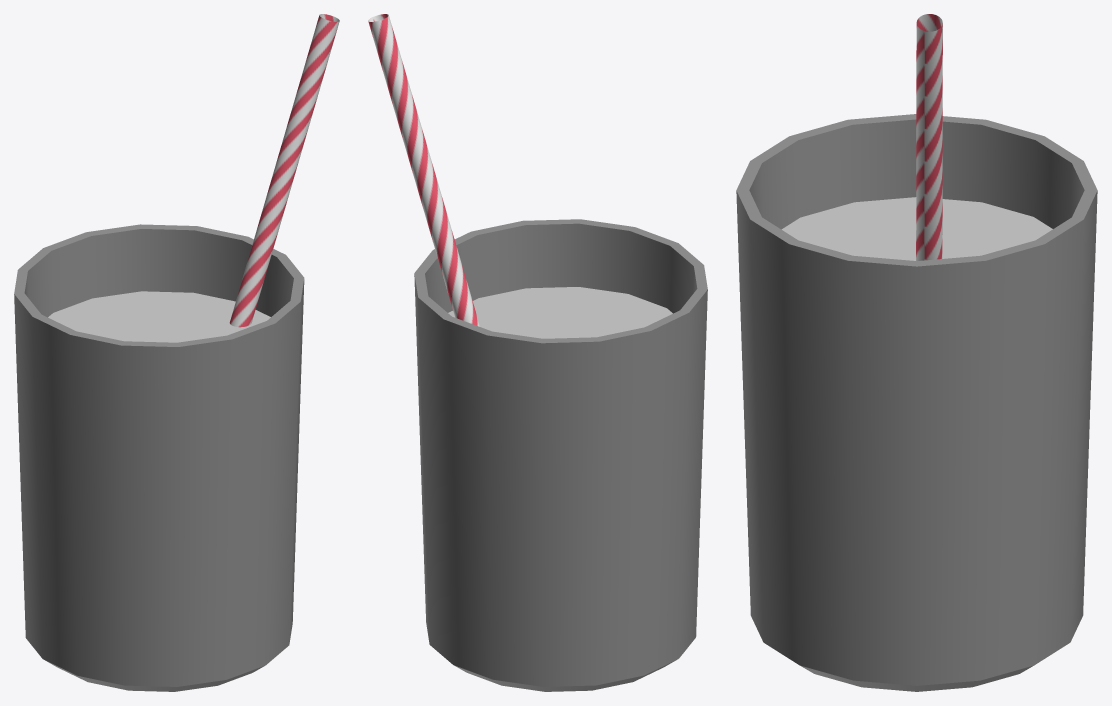
File: Milk.FBX
3 renders of one model, left to right at view 1: azimuth 30°, elevation 25°; view 2: azimuth 150°, elevation 25°; view 3: azimuth 270°, elevation 25°, orthographic. The views are drawn at different scales.
Visible parts, largest first — view 1: glass, milk, straw; view 2: glass, milk, straw; view 3: glass, milk, straw.
Boxes of the visible parts, bbox=[...] form: glass: bbox=[14, 224, 304, 691]; milk: bbox=[48, 291, 270, 342]; straw: bbox=[229, 14, 339, 327]; glass: bbox=[414, 219, 707, 691]; milk: bbox=[448, 287, 672, 338]; straw: bbox=[368, 14, 479, 326]; glass: bbox=[736, 114, 1097, 691]; milk: bbox=[781, 197, 1052, 260]; straw: bbox=[916, 14, 942, 260].
Bounding box in the file's own units: 123 × 219 × 100.
